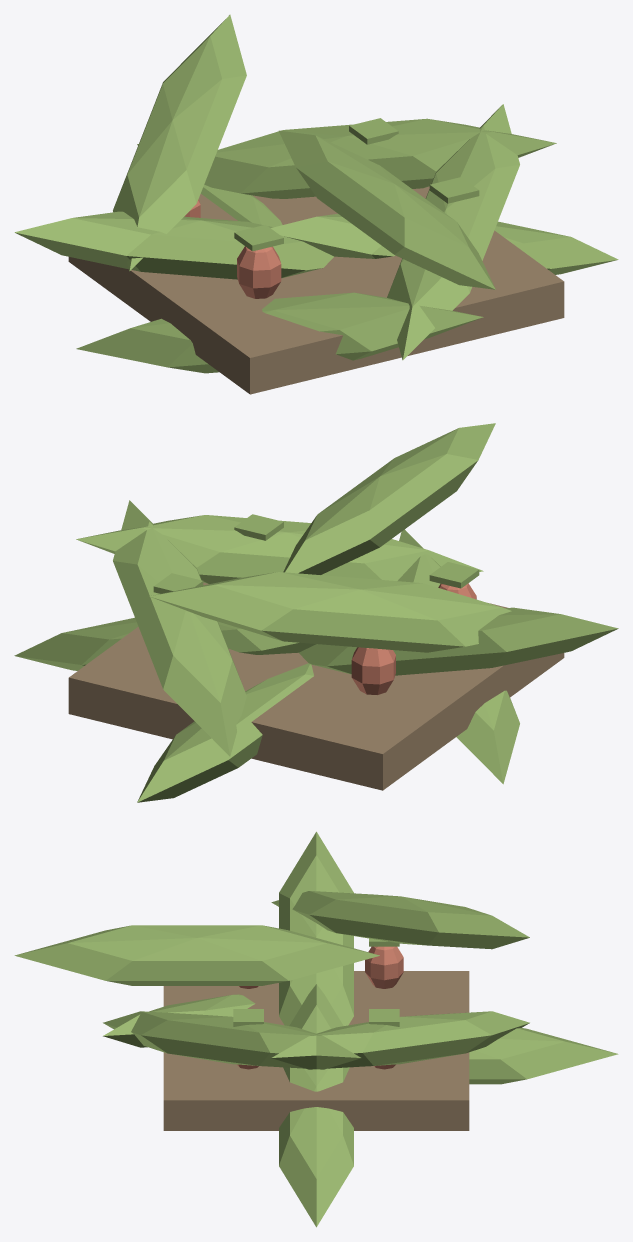
The model's file is cozy-farm-and-homestead-strawberry-mature-d5481fbb__19388.glb.
3 renders of one model, top to bottom at view 1: azimuth 30°, elevation 25°; view 2: azimuth 150°, elevation 25°; view 3: azimuth 270°, elevation 25°, orthographic. The views are drawn at different scales.
Parts seen in each view (by area): view 1: strawberry-mature; view 2: strawberry-mature; view 3: strawberry-mature.
Boxes of the visible parts, <box> form: strawberry-mature: <box>14,14,618,394</box>; strawberry-mature: <box>14,423,618,802</box>; strawberry-mature: <box>14,831,618,1227</box>.
Size of the model in its own units: 0.8669 by 0.3039 by 0.891.
